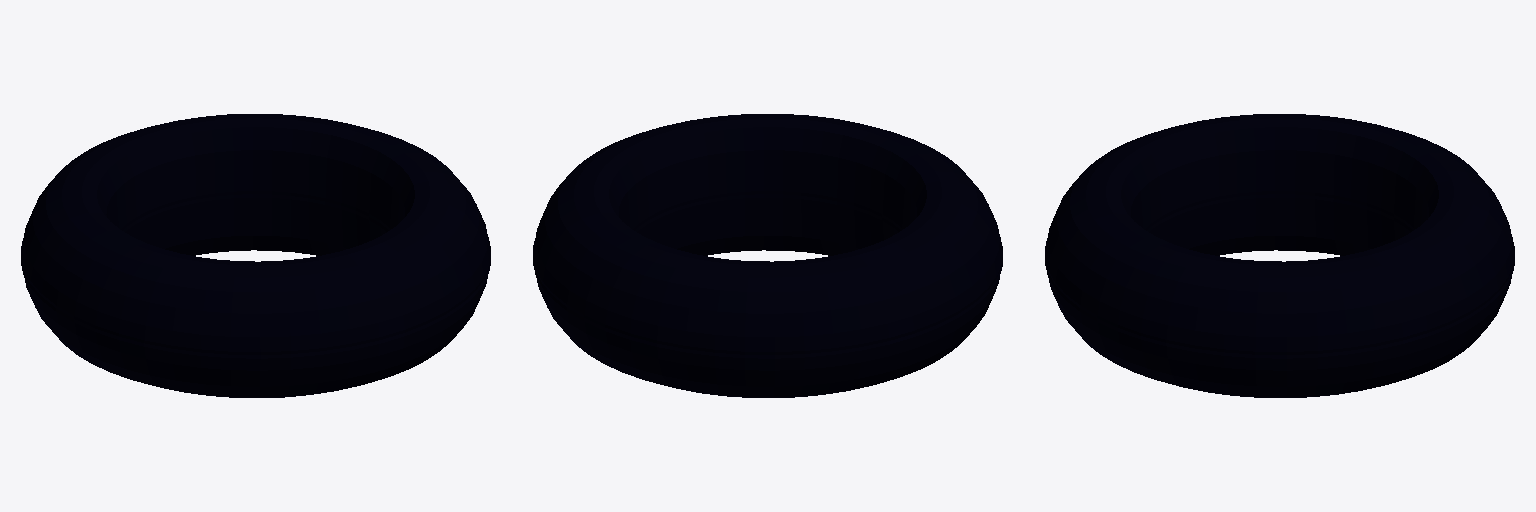
File: reactor.obj
3 views of the same model, side by side, from view 1: azimuth 30°, elevation 25°; view 2: azimuth 150°, elevation 25°; view 3: azimuth 270°, elevation 25° (orthographic).
Parts seen in each view (by area): view 1: reactor_BezierCircle.003; view 2: reactor_BezierCircle.003; view 3: reactor_BezierCircle.003.
Boxes of the visible parts, box(x1,y1,x2,y2) form: reactor_BezierCircle.003: box(21, 114, 490, 397); reactor_BezierCircle.003: box(533, 114, 1002, 397); reactor_BezierCircle.003: box(1045, 114, 1514, 397).
Size of the model in its own units: 102 by 30.66 by 102.